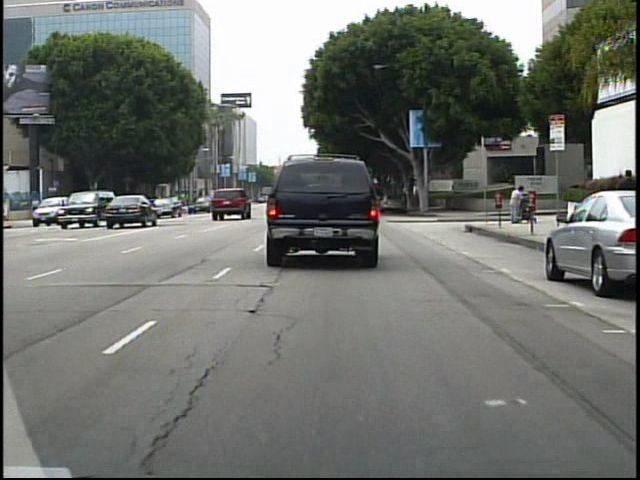person: (612, 163, 635, 235), (506, 181, 526, 228)
